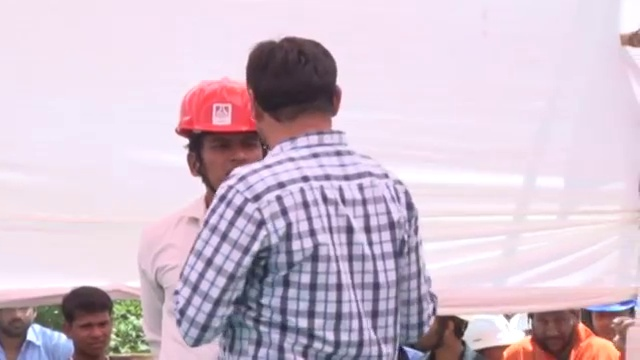helmet: (175, 78, 266, 137), (462, 313, 526, 352)
helmet_off: (244, 45, 348, 130), (61, 289, 115, 359), (529, 308, 581, 353), (422, 316, 469, 360), (590, 304, 636, 342), (0, 306, 36, 338)
helmet_on: (175, 77, 265, 197)
person: (177, 29, 435, 354), (135, 74, 268, 360), (502, 306, 619, 360), (0, 298, 73, 358)
